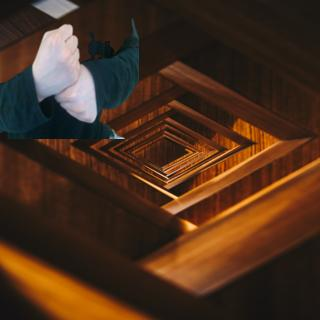CAREFUL: (31, 22, 101, 127)
